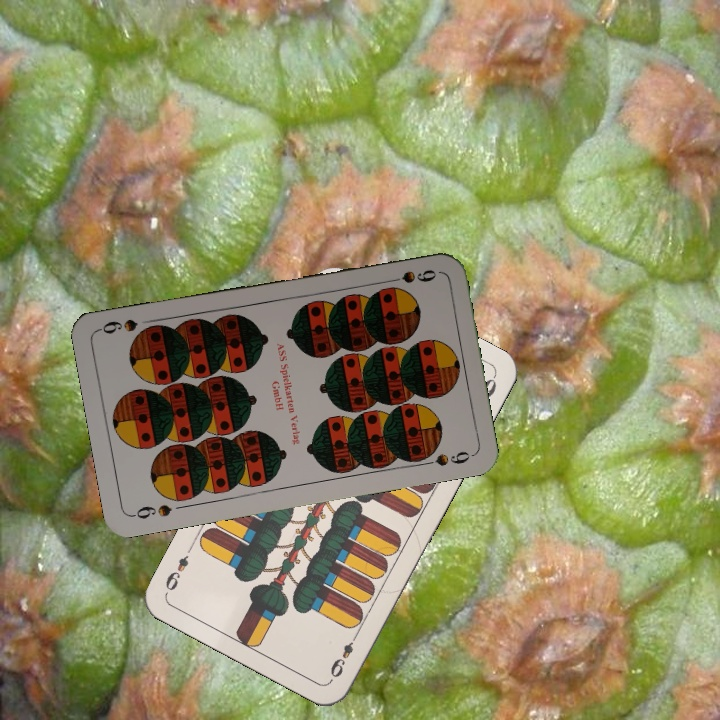E9: (326, 629, 361, 681)
S9: (381, 265, 439, 286), (128, 500, 174, 522)
